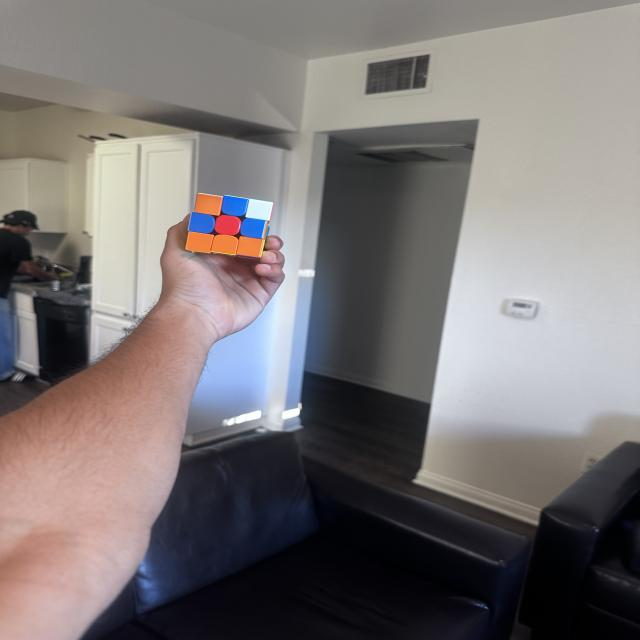sticker: (220, 194, 250, 218), (194, 192, 223, 216), (210, 233, 240, 256), (244, 198, 274, 220), (236, 235, 264, 258), (186, 230, 214, 253), (188, 212, 216, 235), (214, 214, 242, 236), (240, 217, 268, 239)
